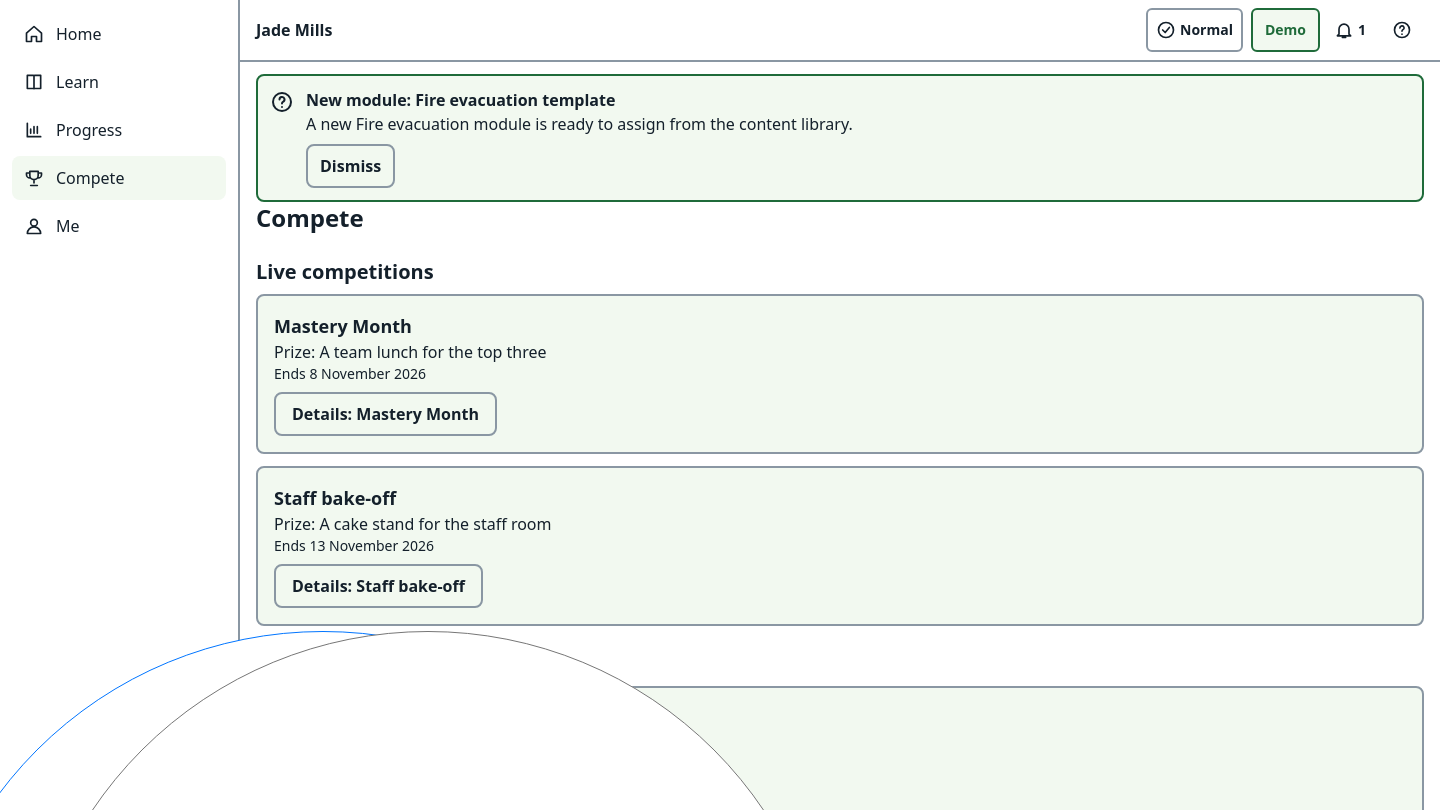
Test: S10 live competitions › tells an ineligible person they are not eligible while still showing the details
The image size is (1440, 810).
Click the button "Details: Mastery Month".
click(385, 414)  # box [274,392,497,436]
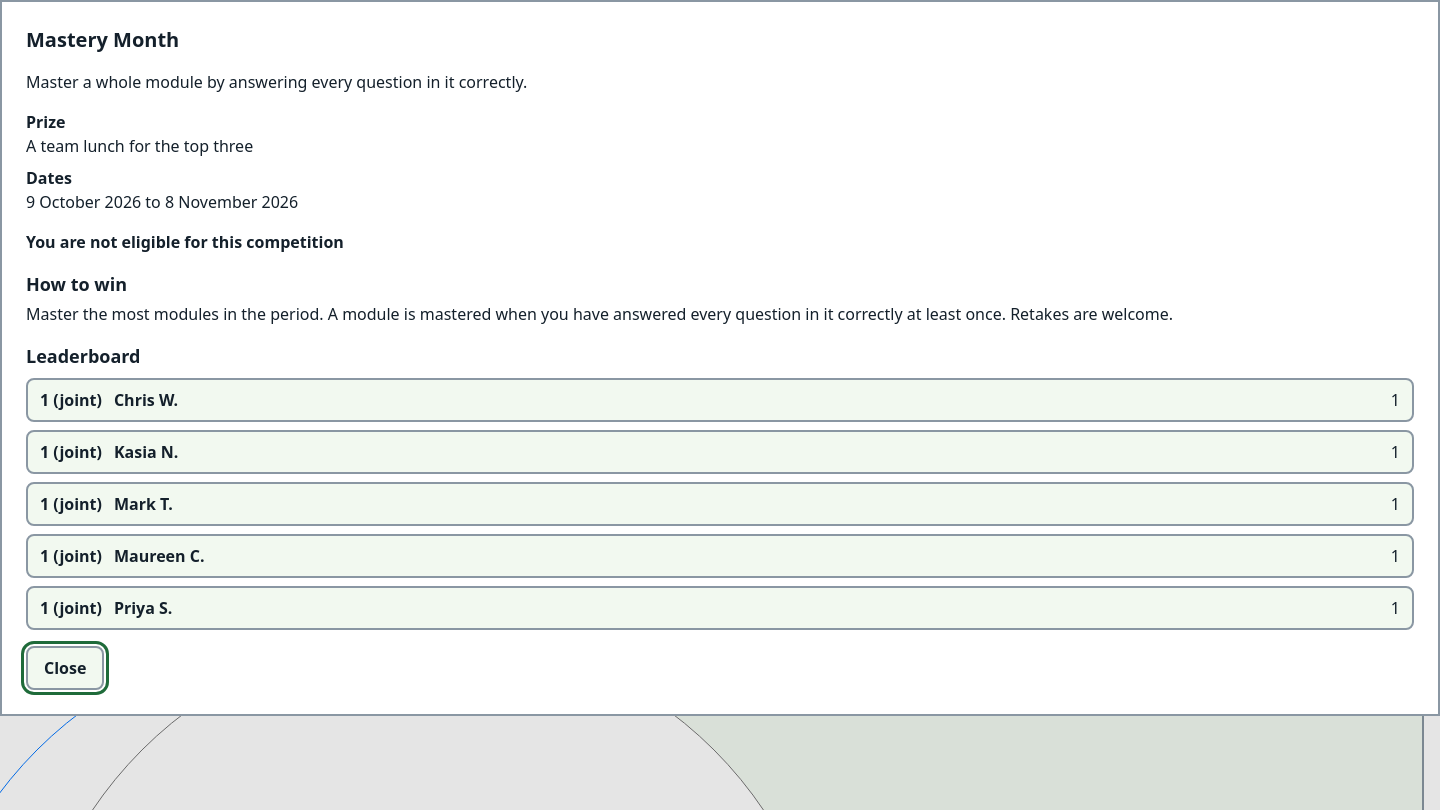
Expected: the dialog "Mastery Month" shows "You are not eligible for this competition", [26,231,344,253]
Expected: the dialog "Mastery Month" shows "How to win", [26,272,127,296]
